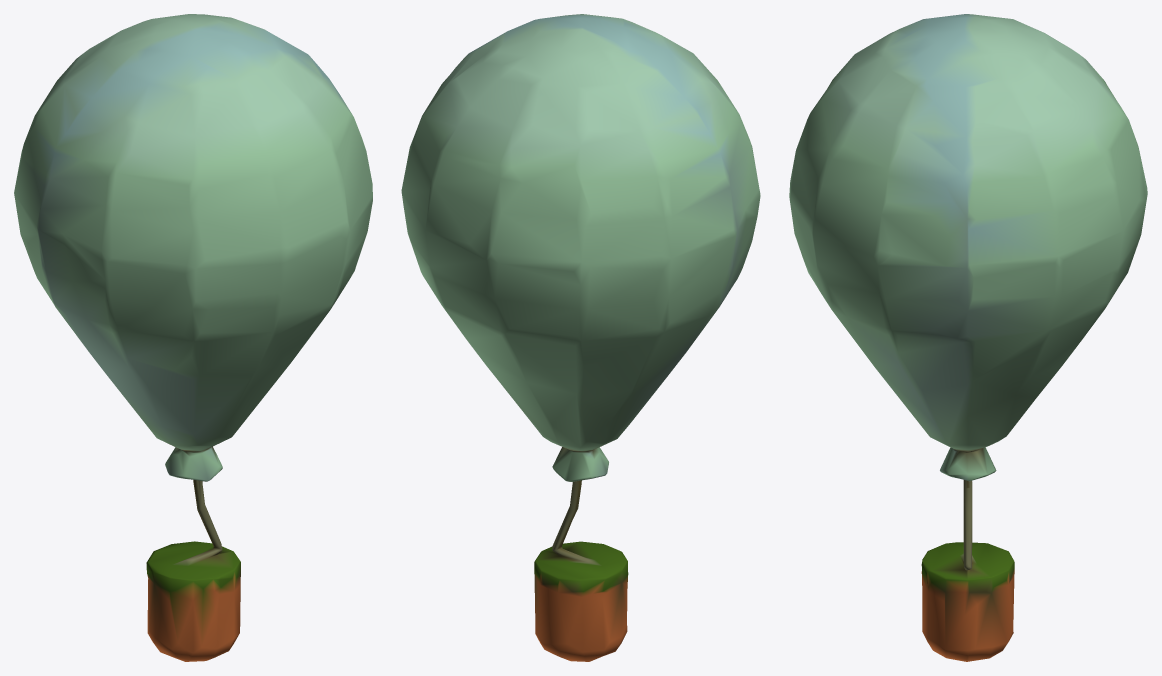
Rendered from gen3d-balloon-lod1.glb.
3 views of the same model, side by side, from view 1: azimuth 30°, elevation 25°; view 2: azimuth 150°, elevation 25°; view 3: azimuth 270°, elevation 25° (orthographic).
Visible parts, largest first — view 1: part_0; view 2: part_0; view 3: part_0.
Boxes of the visible parts, bbox=[...] form: part_0: bbox=[14, 14, 372, 661]; part_0: bbox=[401, 14, 760, 661]; part_0: bbox=[789, 14, 1147, 661].
Bounding box in the file's own units: 0.5197 × 1 × 0.5181.
